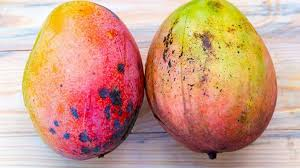damaged_apple: (147, 4, 282, 161), (23, 2, 143, 161)
